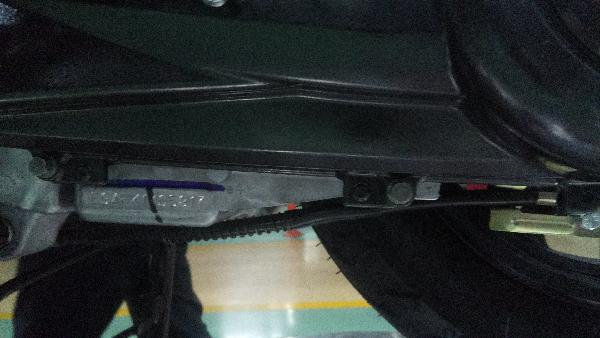box: (91, 190, 207, 209)
